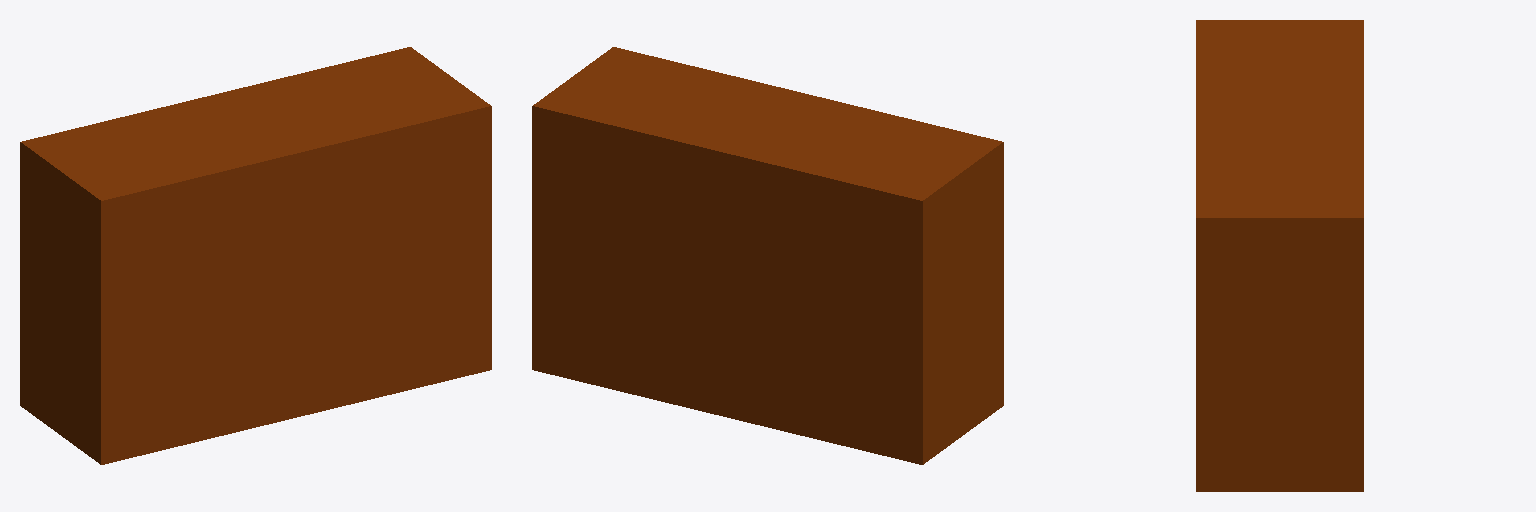
The robot description file, URDF, robot "handle_head":
<?xml version="1.0"?>
<robot name="handle_head">

  <link name="handle_head">
    <!-- Handle -->
    <visual>
      <origin xyz="0 0 0" rpy="0 0 0"/>
      <geometry>
        <box size="0.09981079319825956 0.03586651962088576 0.06458152766854514"/>
      </geometry>
      <material name="brown">
        <color rgba="0.55 0.27 0.07 1.0"/>
      </material>
    </visual>
    <collision>
      <origin xyz="0 0 0" rpy="0 0 0"/>
      <geometry>
        <box size="0.09981079319825956 0.03586651962088576 0.06458152766854514"/>
      </geometry>
    </collision>

    <inertial>
      <origin xyz="0 0 0" rpy="0 0 0"/>
      <mass value="0.08836184532683747"/>
      <inertia ixx="4.0183881553844806e-05" iyy="0.00010406792884246969" izz="8.28289333985309e-05" ixy="0" ixz="0" iyz="0"/>
    </inertial>
  </link>

</robot>

--- What the picture shows (computed from the rendered views, not written in the file) ---
3 views of the same robot in one strip: view 1: azimuth 30°, elevation 25°; view 2: azimuth 150°, elevation 25°; view 3: azimuth 270°, elevation 25° (orthographic).
Model handle_head with 1 links and 0 joints (none), rooted at handle_head, posed every joint at zero.
Links seen in each view (by area): view 1: handle_head; view 2: handle_head; view 3: handle_head.
Link boxes in pixels (x1=…): handle_head: x1=20, y1=47, x2=491, y2=464; handle_head: x1=532, y1=47, x2=1003, y2=464; handle_head: x1=1196, y1=20, x2=1363, y2=491.
Bounding box of the posed robot: 0.0998 × 0.0359 × 0.0646 m (x, y, z).
Geometry: primitives only (box / cylinder / sphere), no mesh files.
